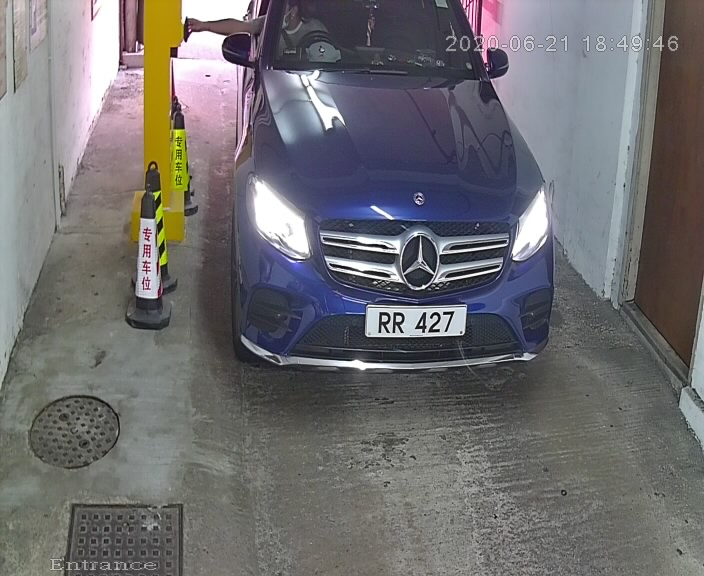privatecar: (204, 1, 579, 419)
